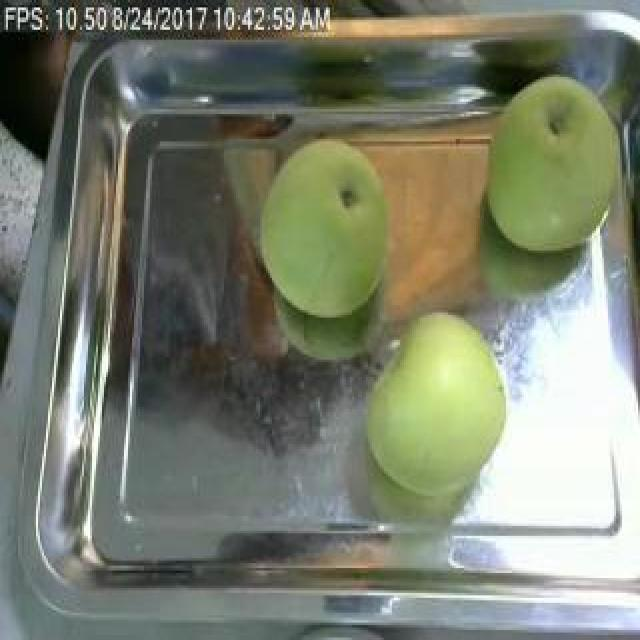Rotten Apple: (368, 318, 514, 491), (487, 72, 617, 250), (261, 140, 387, 309)
